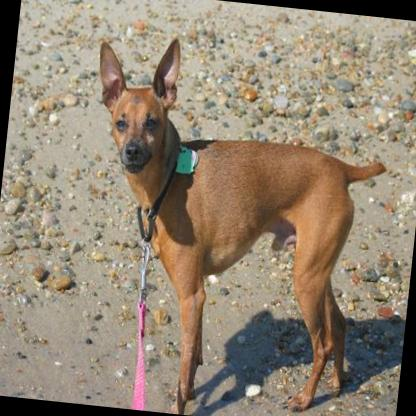miniature_pinscher: (59, 25, 397, 416)
